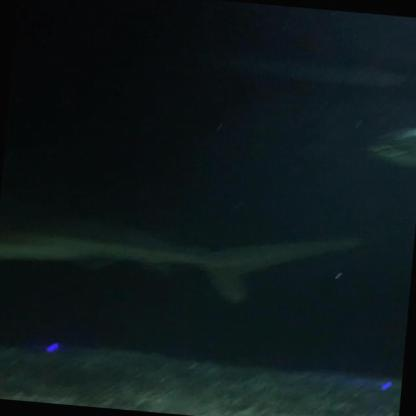fish: (364, 121, 415, 179)
shark: (0, 201, 380, 315)
